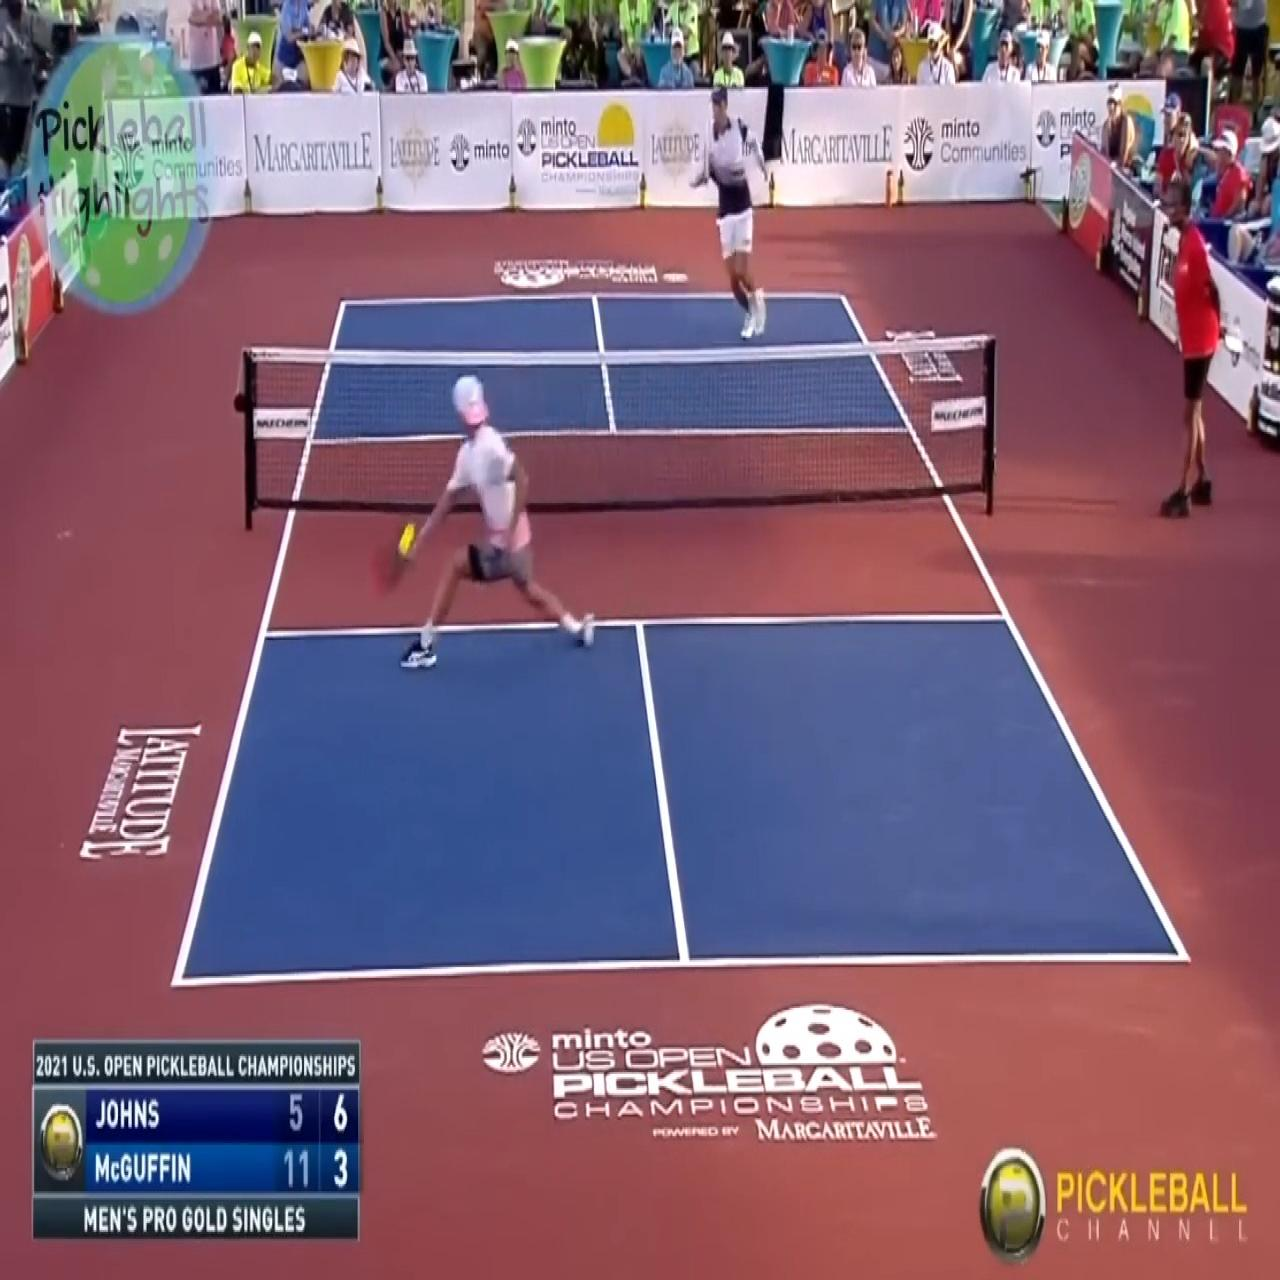pickleball: (399, 523, 416, 557)
